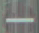No entry: (1, 3, 37, 32)
